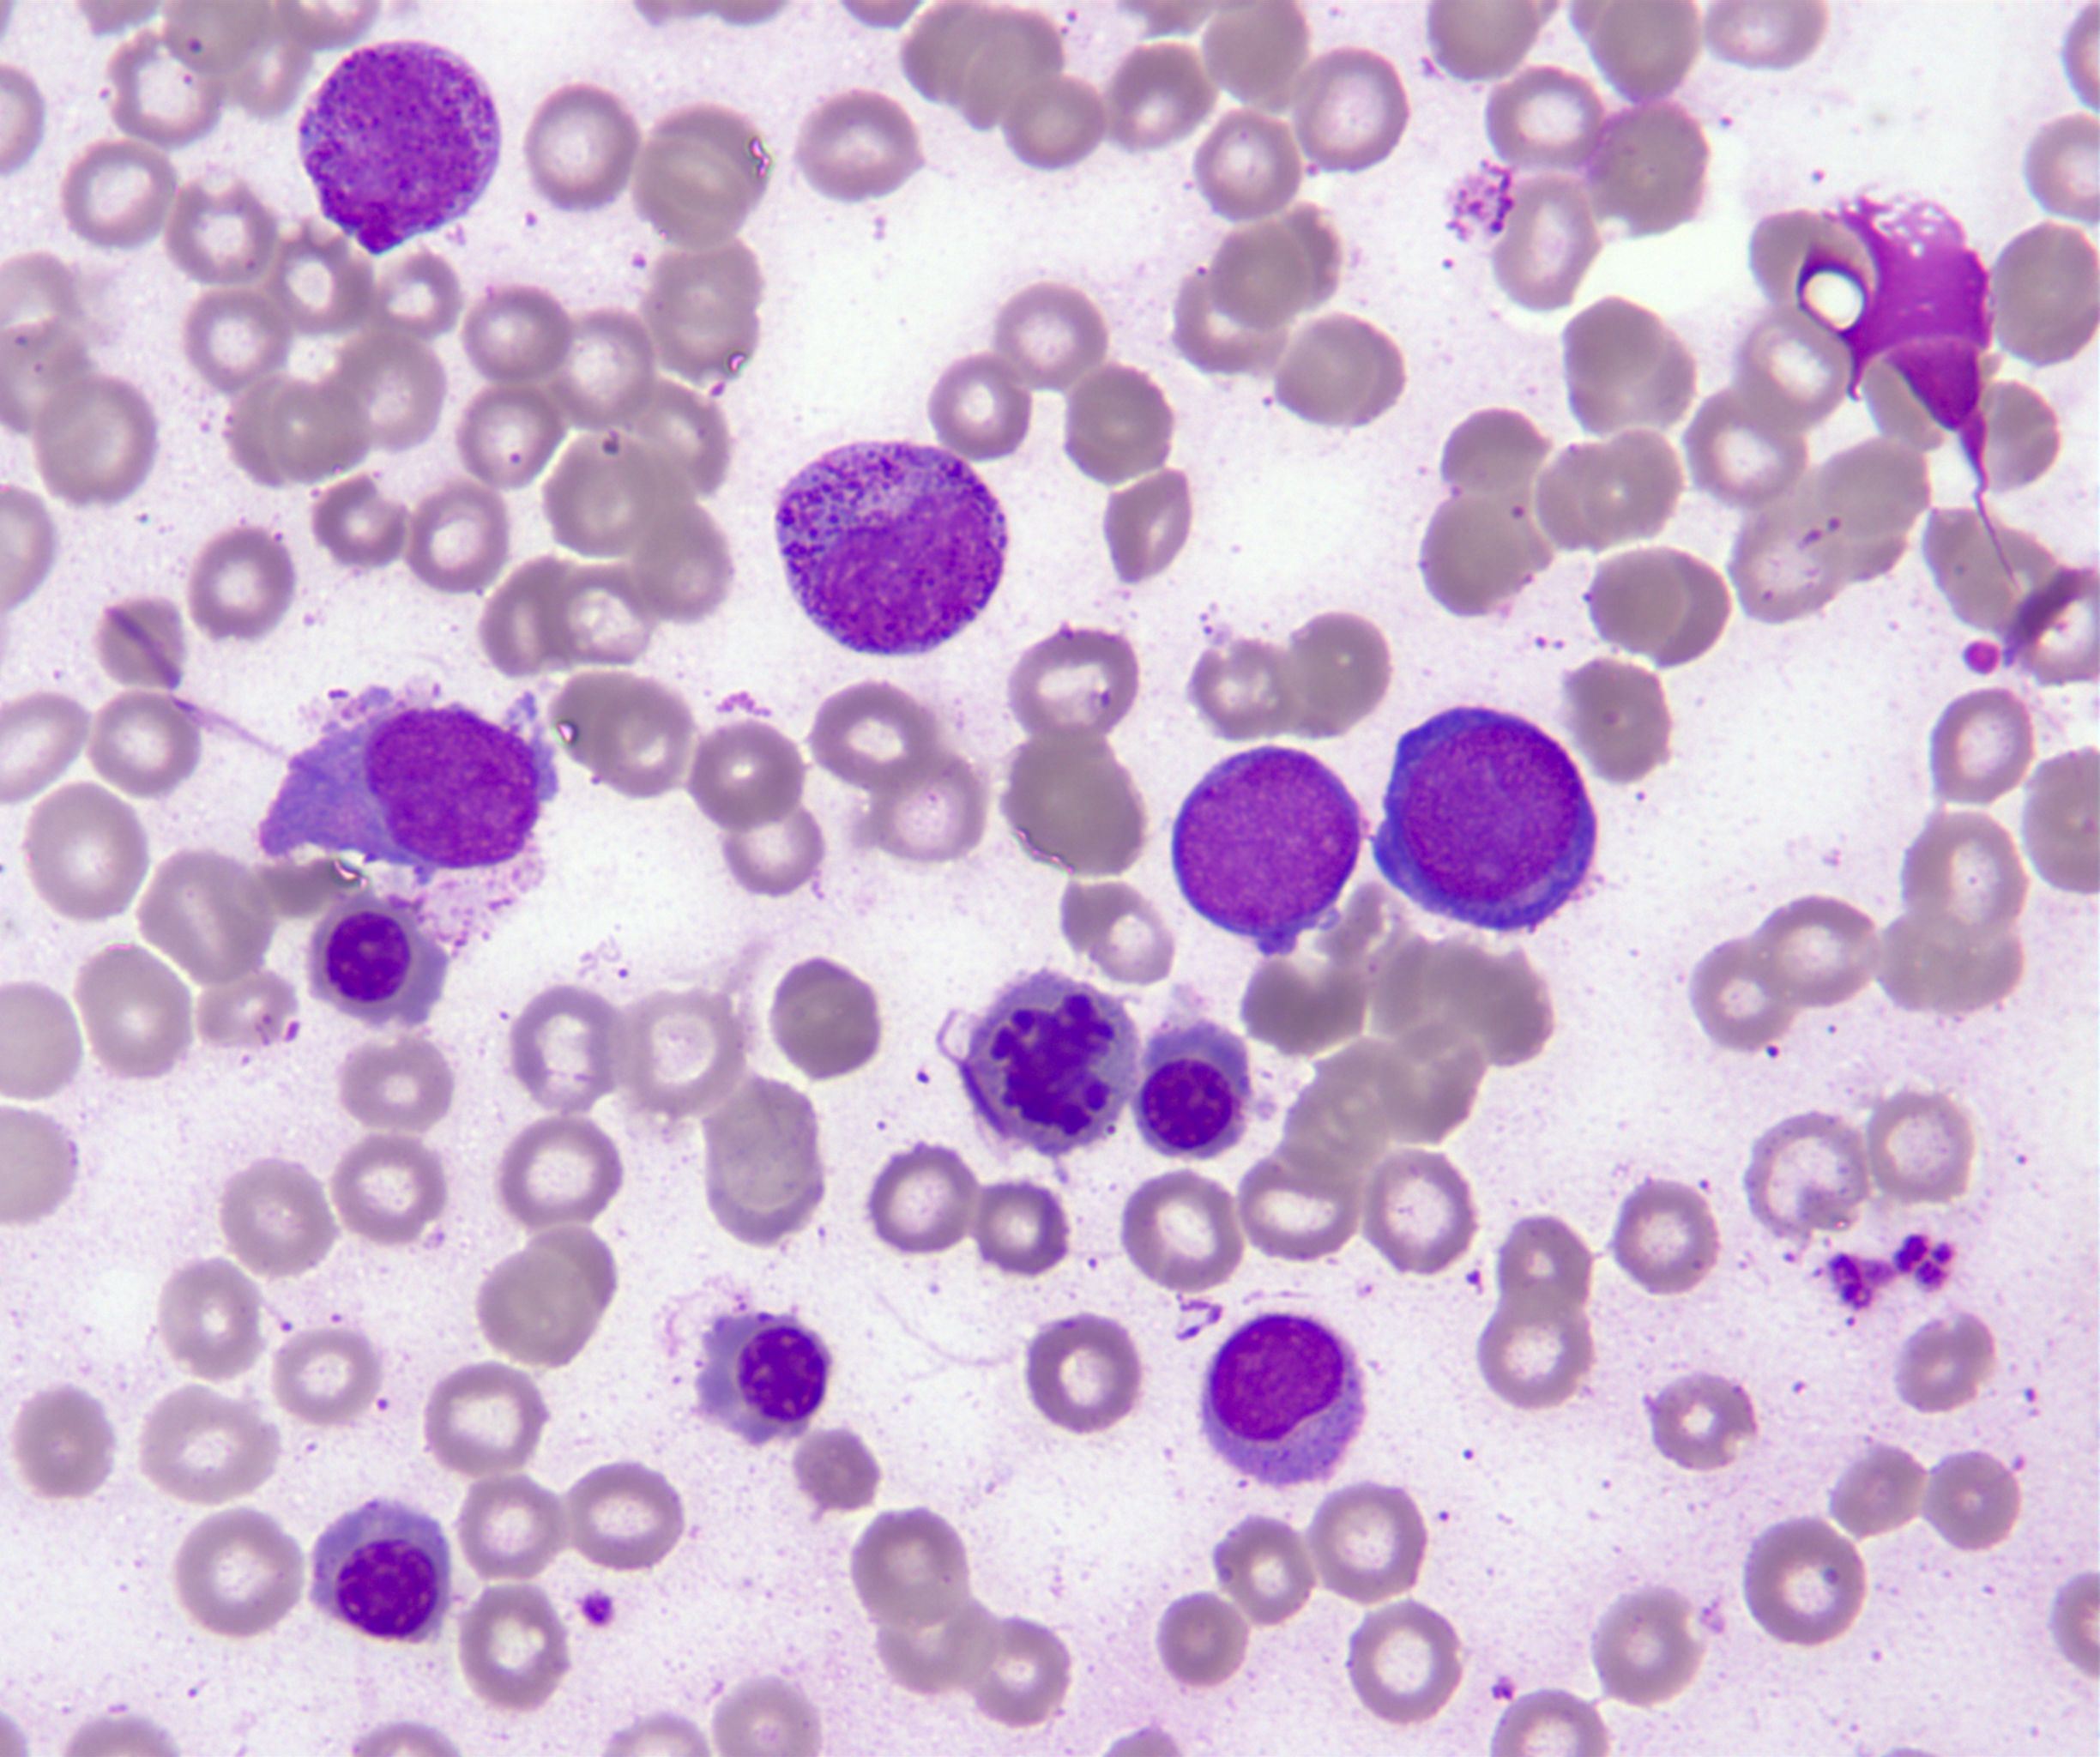1: (1172, 749, 1367, 956)
22: (1374, 707, 1596, 932)
23: (307, 1499, 448, 1645), (307, 890, 447, 1028), (692, 1316, 830, 1450), (1130, 1017, 1251, 1160)
3: (774, 441, 1006, 654), (298, 42, 499, 255)
32: (1198, 1316, 1364, 1490)
42: (260, 687, 560, 886)
x: (958, 970, 1142, 1157)
